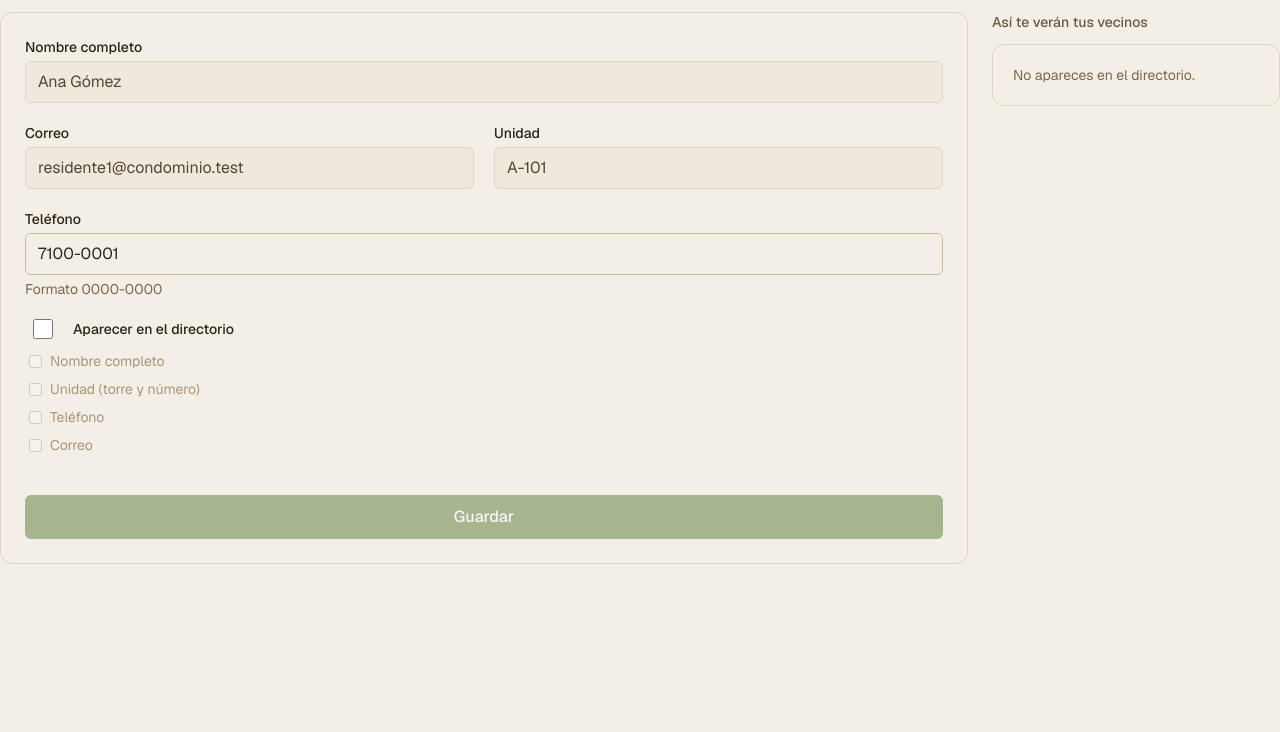
Test: H28. Perfil y privacidad en el directorio › AC2: el interruptor empieza apagado con las casillas deshabilitadas y al encenderlo marca Nombre completo
Expected: the checkbox labelled "Nombre completo" is disabled, [29,354,42,368]
Expected: the checkbox labelled "Unidad (torre y número)" is disabled, [29,382,42,396]
Click the switch labelled "Aparecer en el directorio" at (43,329), box [25,319,61,339]
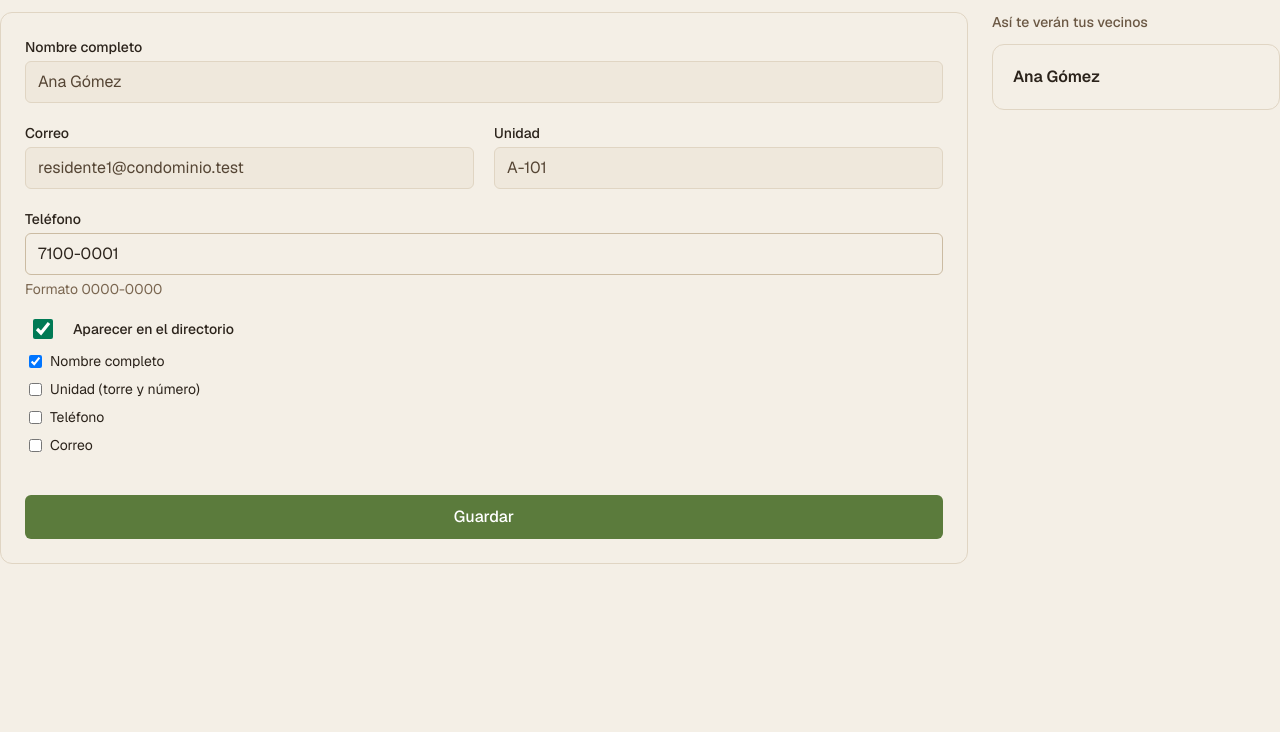
Now the switch labelled "Aparecer en el directorio" is checked, box [25,319,61,339]
Now the checkbox labelled "Nombre completo" is checked, box [29,354,42,368]
Now the checkbox labelled "Unidad (torre y número)" is enabled, box [29,382,42,396]
